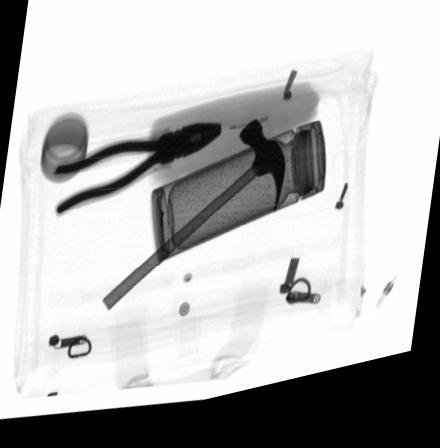Hammer: (102, 131, 286, 316)
Pliers: (52, 131, 222, 223)
